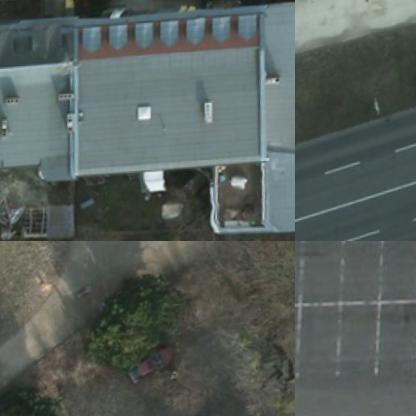car: (117, 335, 179, 394)
